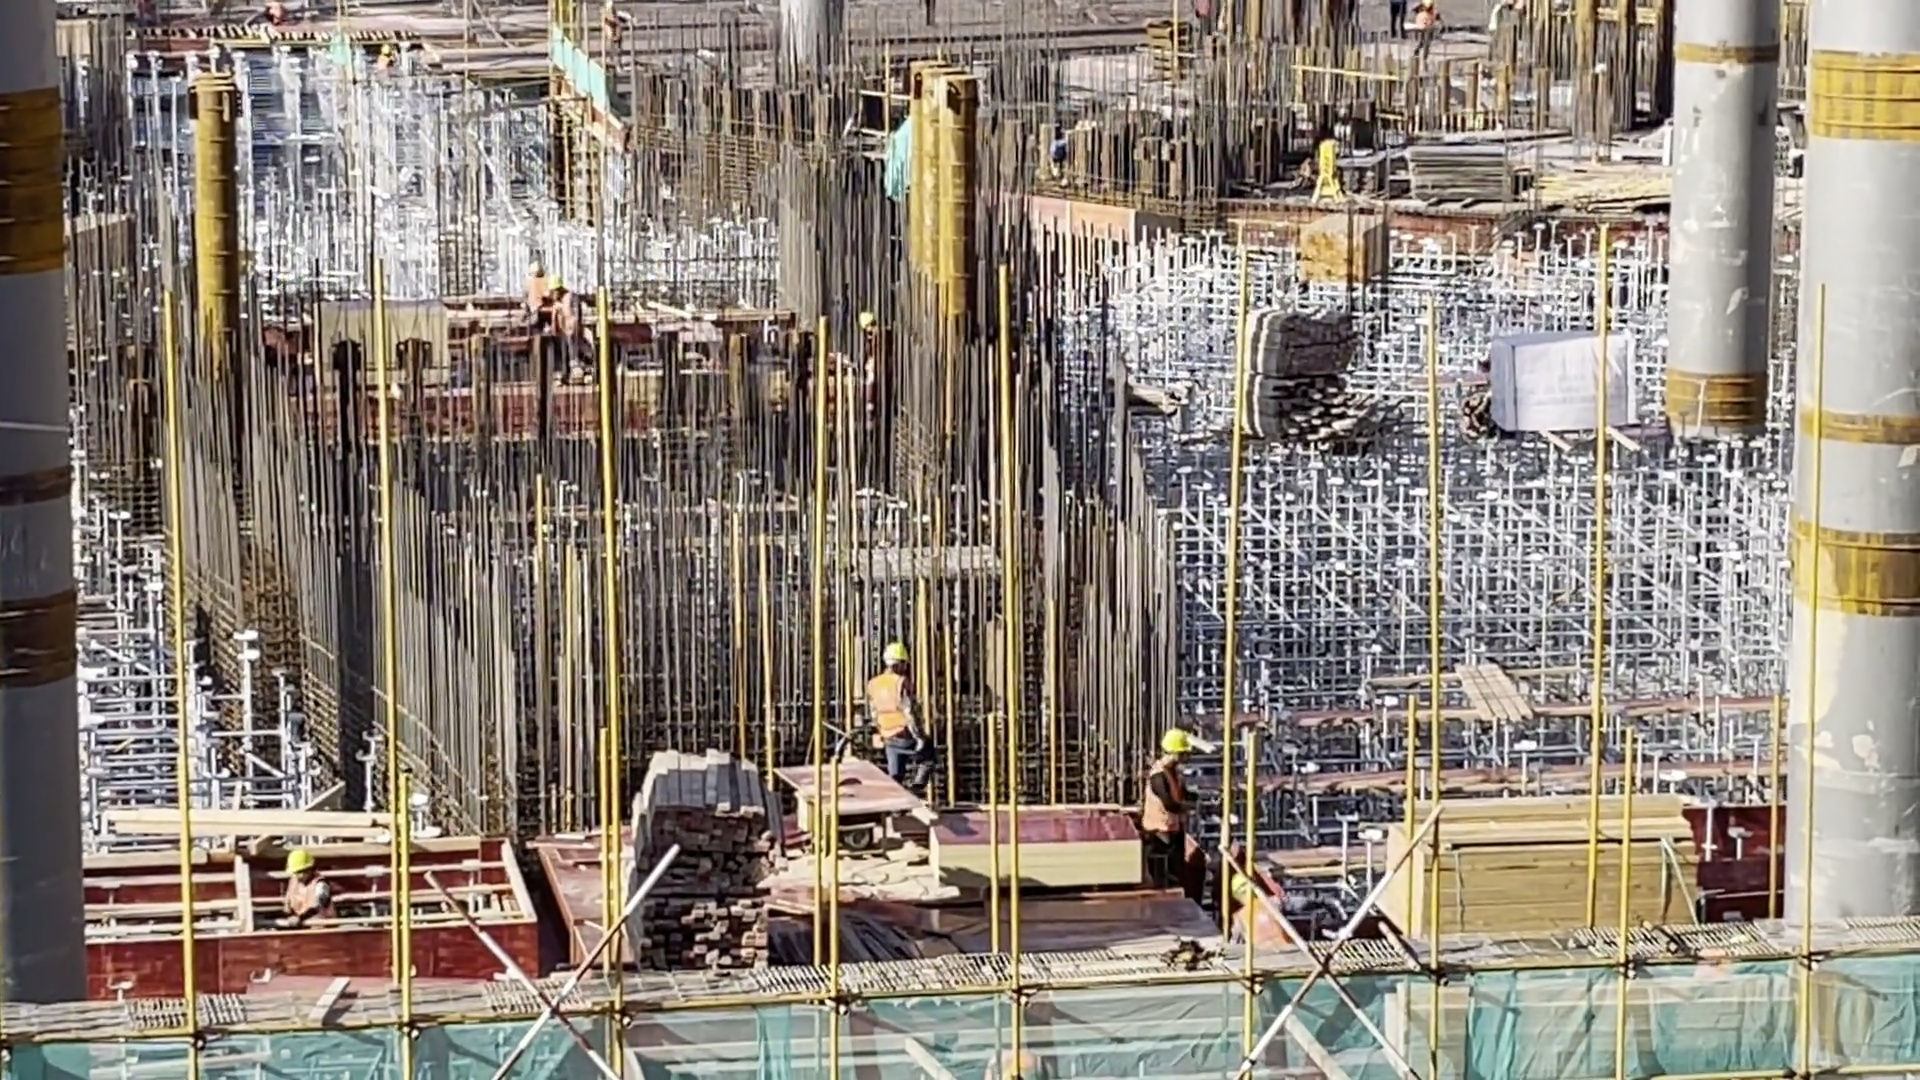board: (926, 805, 1148, 894)
ebox: (1300, 135, 1348, 201)
helmet: (880, 641, 909, 671), (283, 850, 317, 877), (1161, 729, 1194, 753), (528, 261, 543, 274), (549, 273, 561, 290), (858, 313, 870, 327), (380, 44, 390, 56)
person: (859, 642, 944, 801), (1145, 730, 1203, 885), (266, 849, 335, 931), (549, 275, 583, 387), (1410, 3, 1444, 59), (602, 1, 629, 64), (520, 259, 549, 313), (1489, 2, 1512, 62), (376, 43, 397, 68), (264, 1, 285, 25), (856, 312, 875, 332), (921, 1, 938, 24)
vest: (1144, 763, 1185, 835), (870, 670, 913, 736), (286, 879, 330, 923), (554, 295, 581, 340), (522, 277, 545, 308)
wood: (1388, 790, 1714, 948), (632, 748, 774, 978), (1296, 211, 1348, 290)
